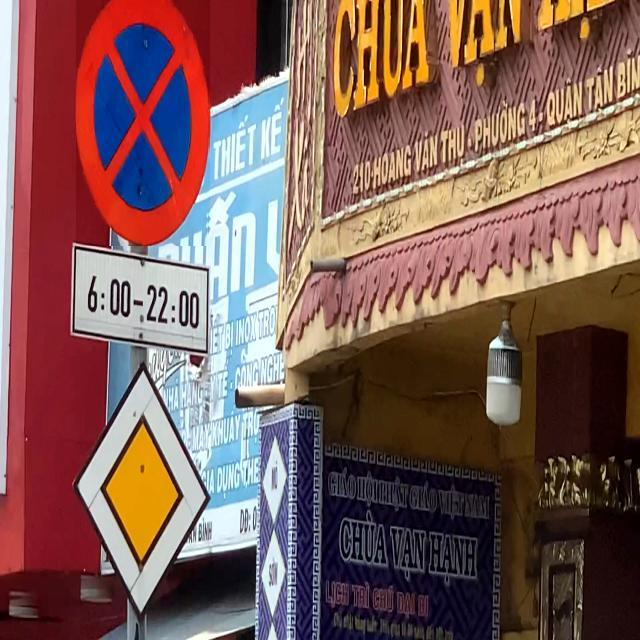P-130: (76, 0, 210, 246)
